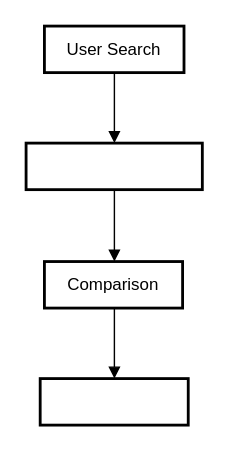
This 227x450 diagram has some shape labels left out. The centre of each missing label's shape, as x and y in pixels:
"Data Collection" goes at point (113, 165).
"Presentation" goes at point (113, 401).
